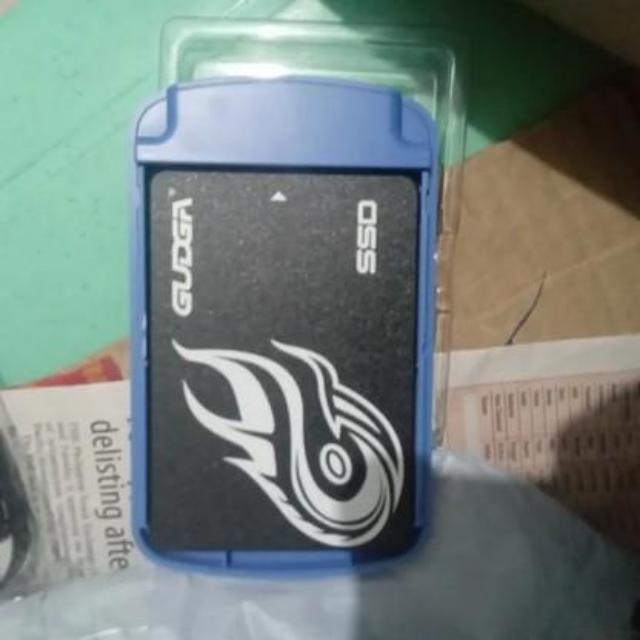DISK: (137, 156, 426, 558)
